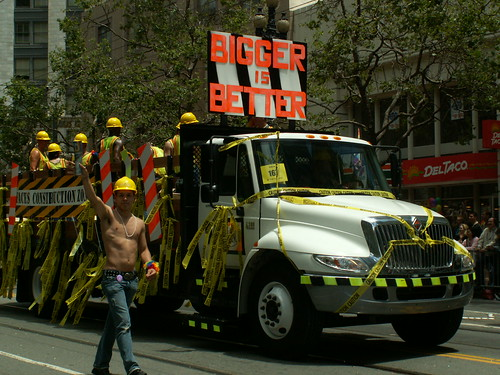person hardhat: (79, 165, 170, 373), (103, 115, 137, 175), (173, 111, 204, 165), (70, 131, 95, 175), (30, 129, 49, 171), (44, 142, 69, 171)
